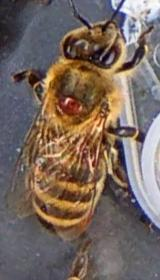varroa_mite: (56, 91, 84, 120)
